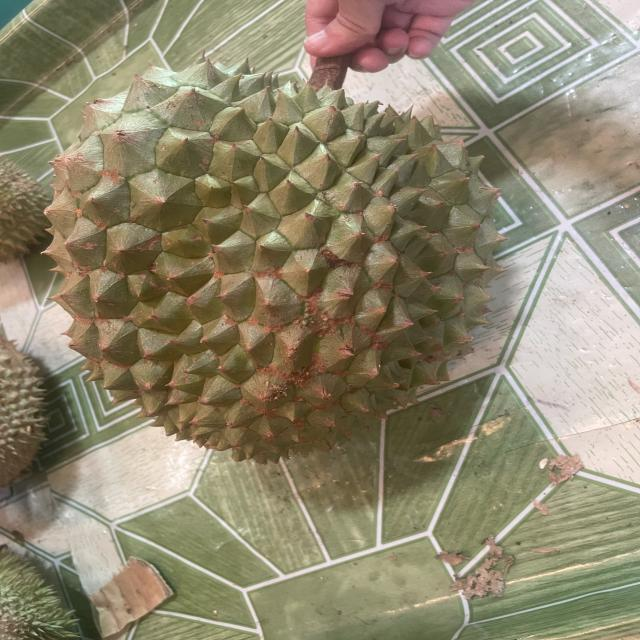mature: (20, 53, 508, 474)
